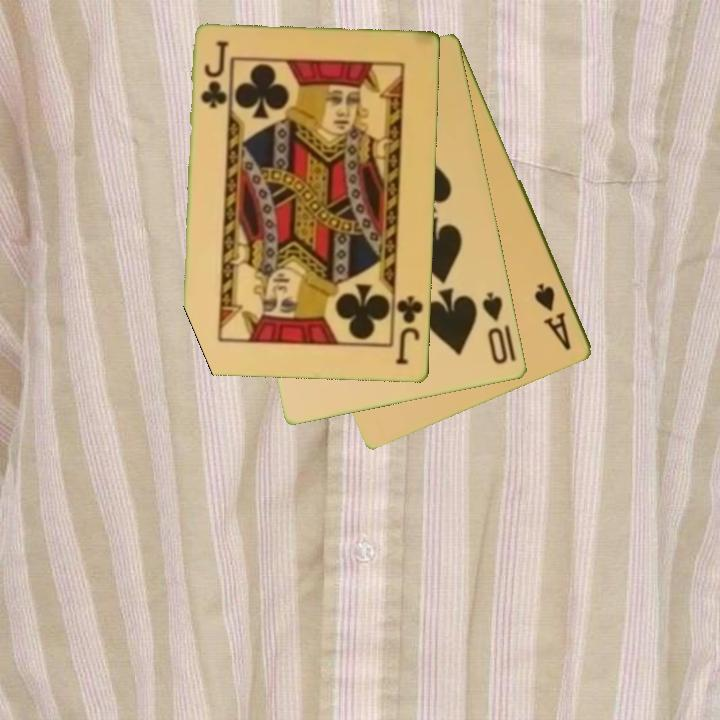10s: (479, 289, 511, 368)
As: (531, 280, 575, 354)
Jc: (393, 293, 427, 368), (198, 37, 231, 112)
